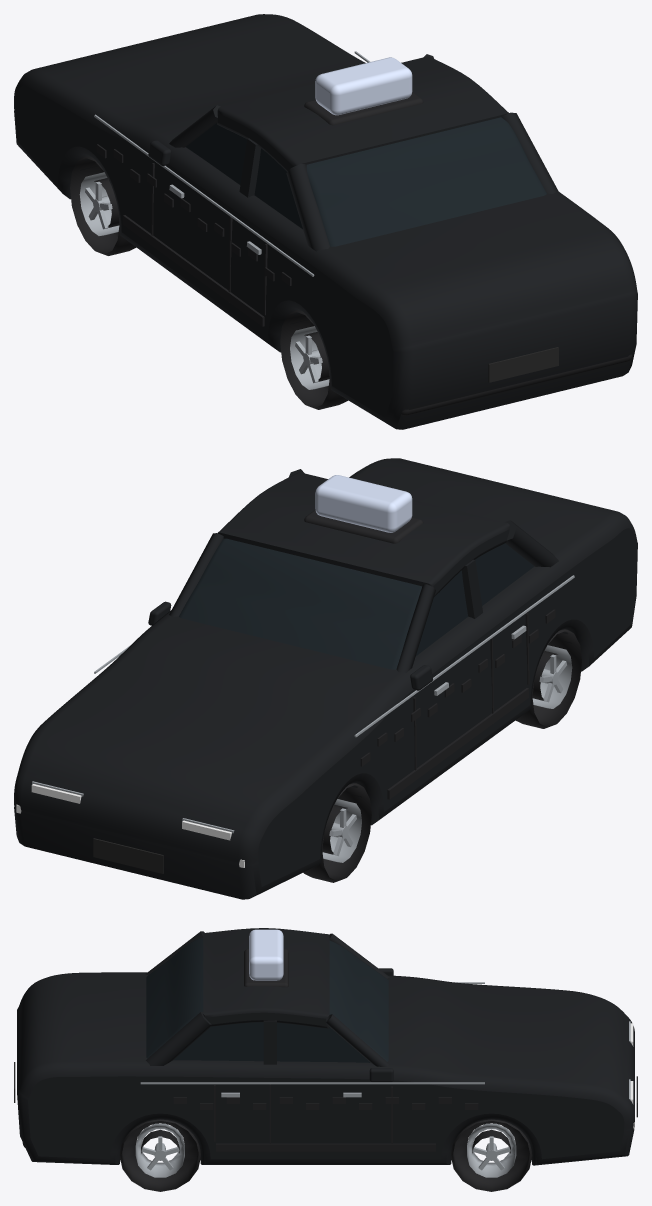
File: TAXI_PA.glb
3 renders of one model, top to bottom at view 1: azimuth 30°, elevation 25°; view 2: azimuth 150°, elevation 25°; view 3: azimuth 270°, elevation 25°, orthographic. The views are drawn at different scales.
Parts seen in each view (by area): view 1: carPaint_0, glass_1, tread_2, steel_3, screen_5, reflective_4; view 2: carPaint_0, glass_1, tread_2, steel_3, screen_5, reflective_4, lamps_6; view 3: carPaint_0, glass_1, tread_2, steel_3, screen_5.
Boxes of the visible parts, x1,y1,x2,y2 form: carPaint_0: (14, 14, 637, 429); glass_1: (186, 117, 546, 246); tread_2: (70, 92, 632, 415); steel_3: (79, 51, 370, 389); screen_5: (315, 57, 412, 115); reflective_4: (488, 347, 558, 382); carPaint_0: (14, 458, 637, 899); glass_1: (179, 538, 534, 669); tread_2: (303, 509, 581, 882); steel_3: (32, 575, 574, 862); screen_5: (315, 475, 412, 532); reflective_4: (93, 838, 163, 873); lamps_6: (16, 784, 244, 867); carPaint_0: (17, 928, 634, 1165); glass_1: (146, 937, 388, 1062); tread_2: (22, 949, 532, 1191); steel_3: (135, 982, 630, 1177); screen_5: (249, 929, 283, 980).
Size of the model in its own units: 1.87 by 1.68 by 4.71.
